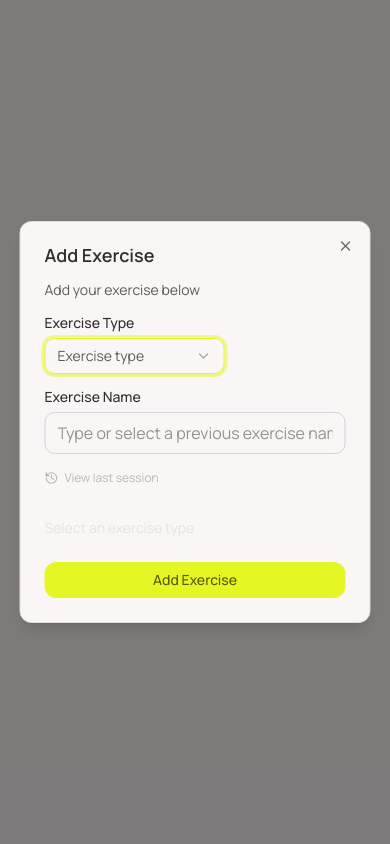
Scenario: AddExerciseModal › removes duplicate exercise names from options
The image size is (390, 844).
Click the field with placeholder "Type or select a previous exercise name..." at coordinates (195, 433), box [44, 412, 346, 454]
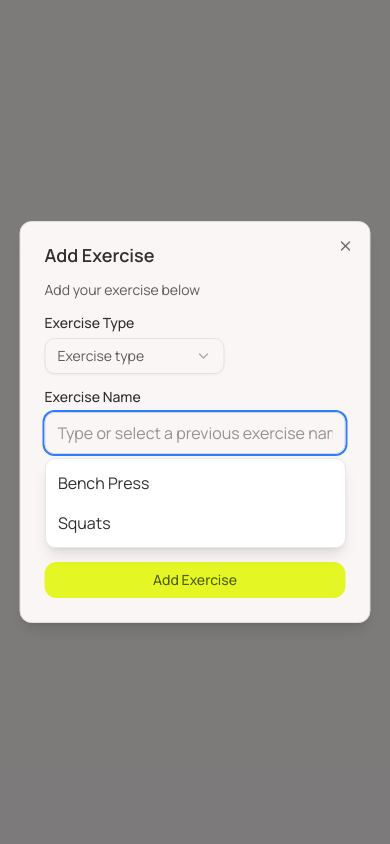
Result: the number of buttons "Bench Press" is 1 at [46, 463, 345, 503]
